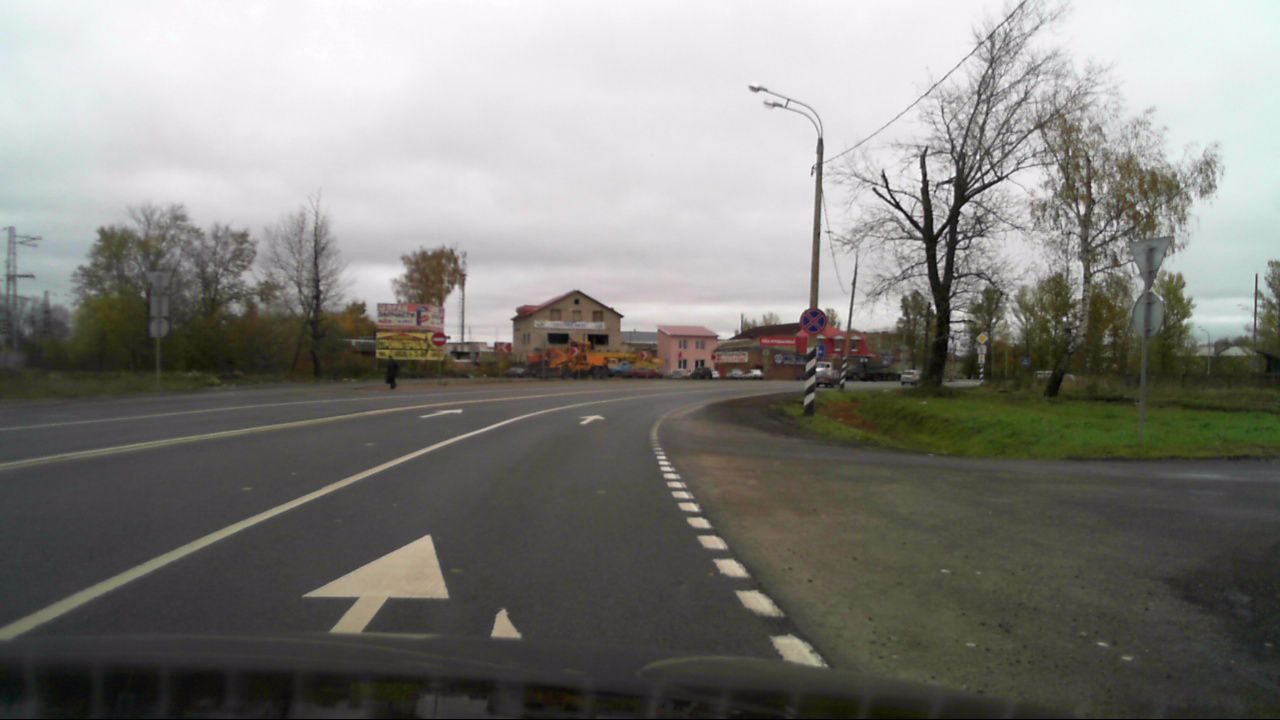No Parking: (799, 308, 827, 334)
